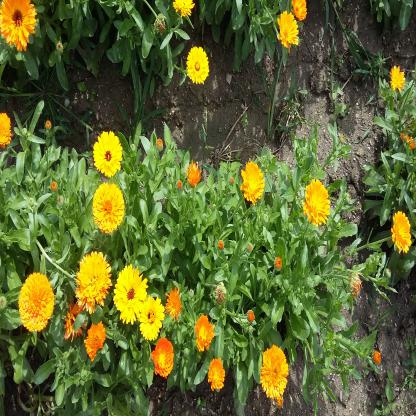marigold: (19, 273, 54, 331), (1, 0, 37, 51), (77, 252, 109, 304), (92, 183, 124, 232), (115, 267, 144, 320), (261, 344, 288, 398), (94, 130, 122, 173), (306, 176, 330, 224), (242, 161, 266, 205), (140, 298, 163, 338), (187, 46, 210, 83), (278, 10, 299, 48), (392, 211, 411, 251), (154, 338, 173, 375), (86, 323, 106, 355), (196, 316, 213, 351), (209, 358, 224, 389), (389, 64, 404, 89), (0, 112, 11, 146), (173, 0, 194, 17), (168, 288, 180, 317), (293, 0, 307, 22)
